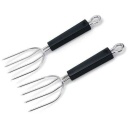Fork: (3, 13, 128, 118)
